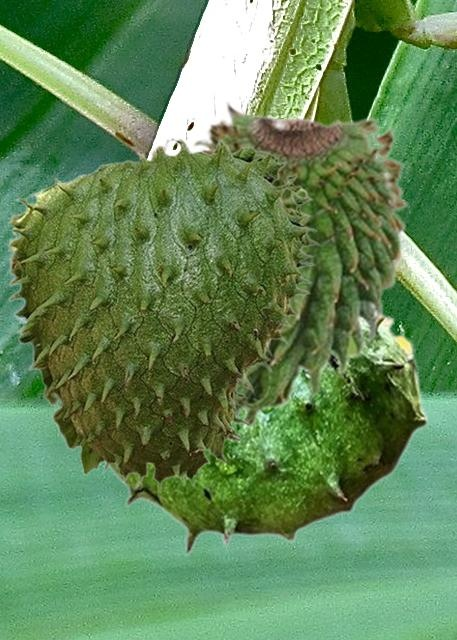guyabano: (7, 136, 320, 493), (103, 310, 428, 555), (189, 99, 409, 433)
